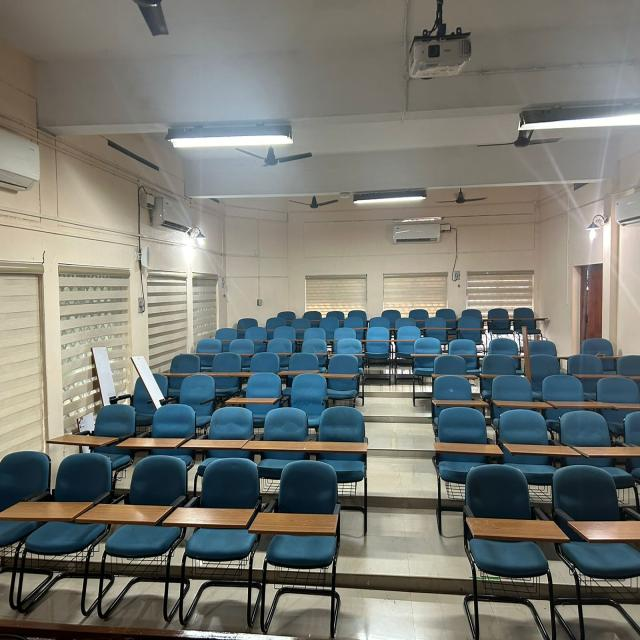chair ahead at: (460, 463, 554, 597), (552, 459, 638, 587), (190, 452, 263, 574), (272, 463, 344, 577), (115, 454, 189, 564), (48, 454, 109, 552), (494, 400, 551, 470), (563, 413, 629, 468), (316, 406, 364, 478), (434, 408, 489, 468), (256, 409, 308, 462), (206, 406, 255, 443)
step ahead at: (347, 570, 462, 592)
